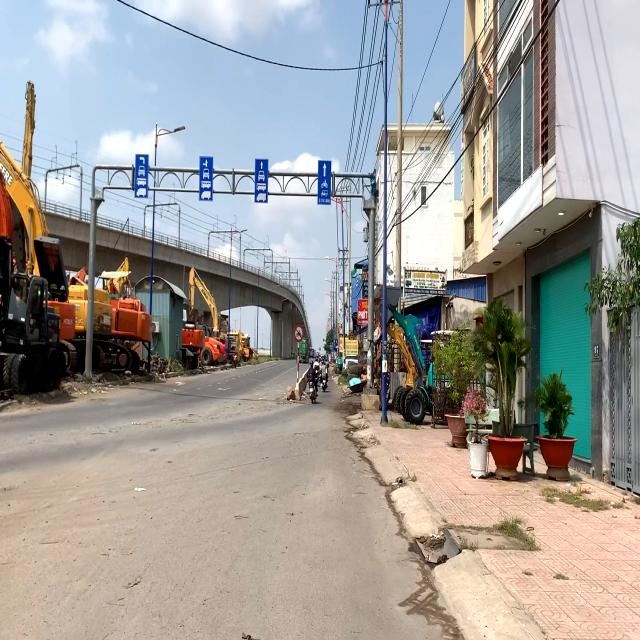bien_chi_dan: (294, 324, 304, 342)
